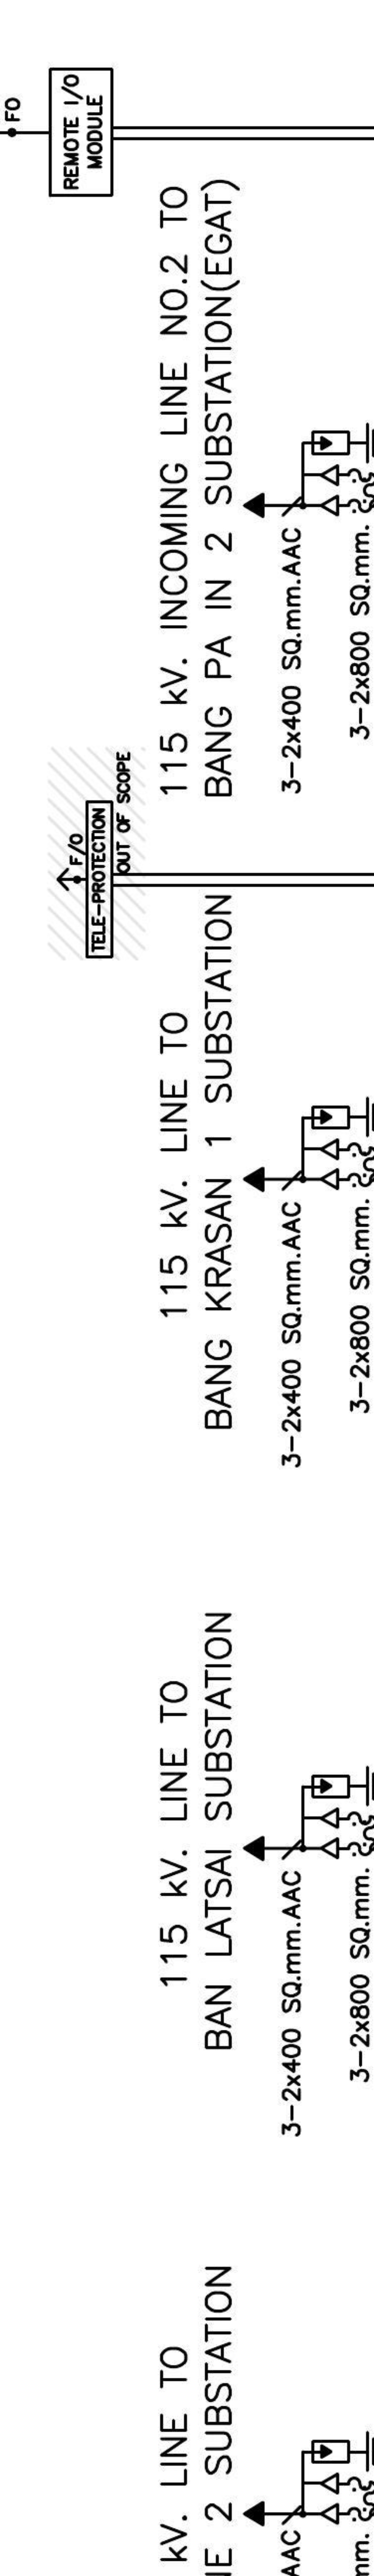remote_io_module: (48, 67, 114, 197)
tele_protection: (86, 800, 114, 959)
terminator_double: (300, 2471, 339, 2527), (300, 1806, 339, 1861), (300, 1137, 339, 1191), (300, 463, 339, 517)
